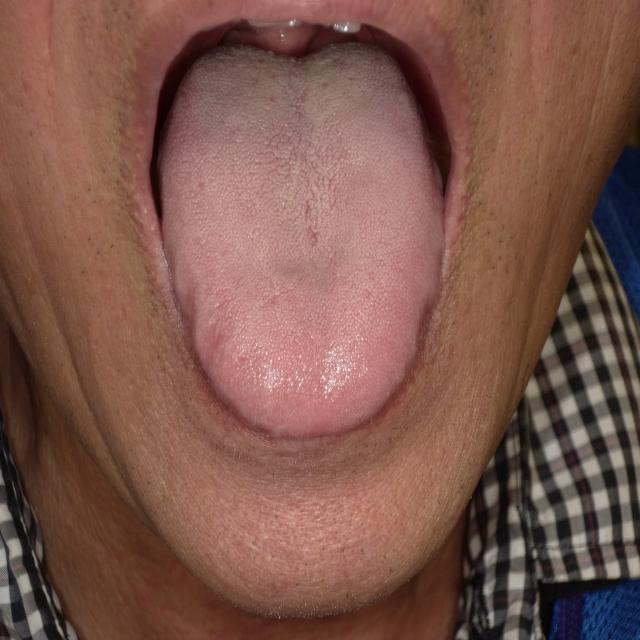baitaishe: (159, 40, 444, 435)
chihenshe: (402, 236, 444, 377), (173, 280, 198, 350)
piweiao: (253, 229, 355, 309)
shenquao: (229, 41, 354, 73)
